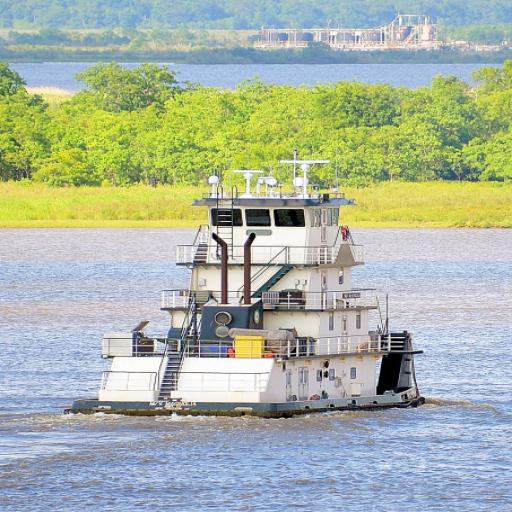tugboat: (62, 150, 433, 428)
